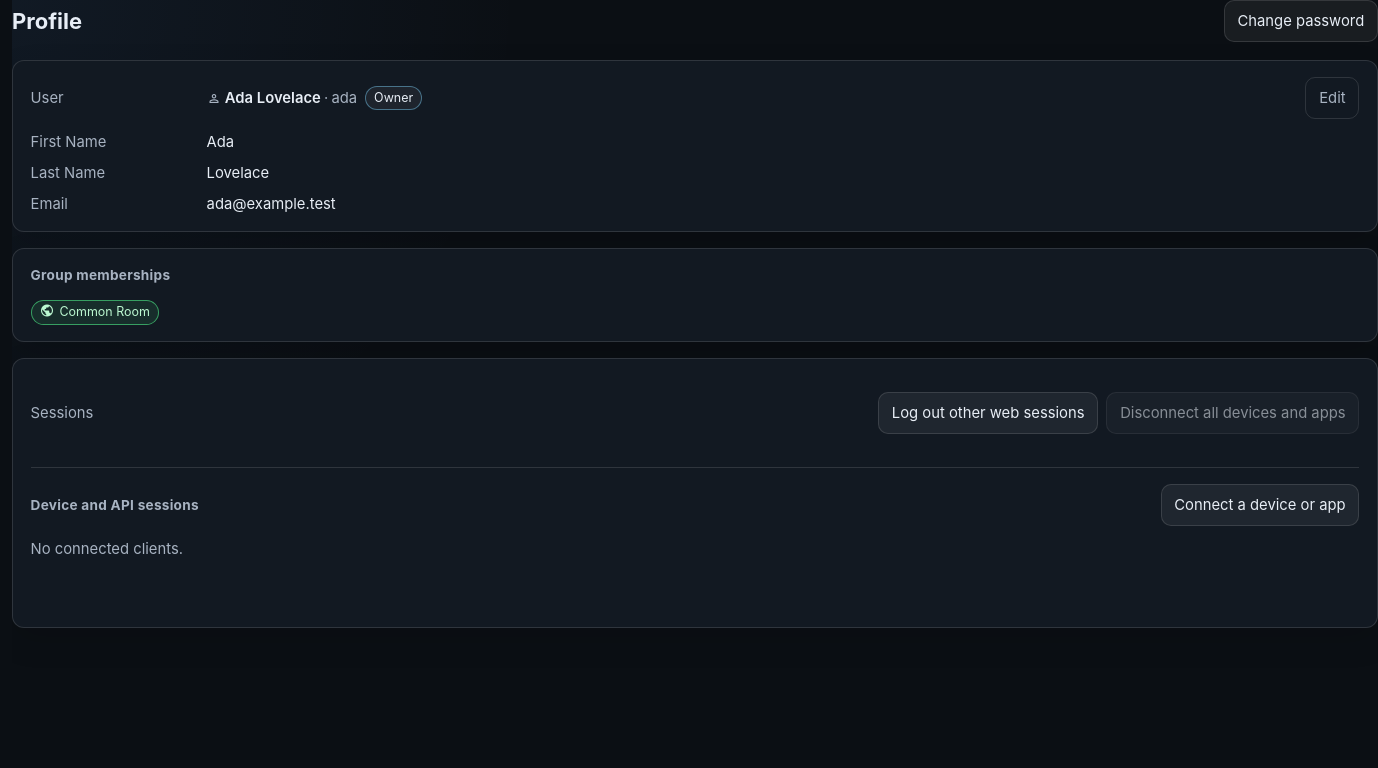
ProfileOrchestrator account sessions › keeps the current browser usable when web-session revocation fails
The image size is (1378, 768).
Click the button "Log out other web sessions".
click(988, 413)  # box [878, 392, 1098, 434]
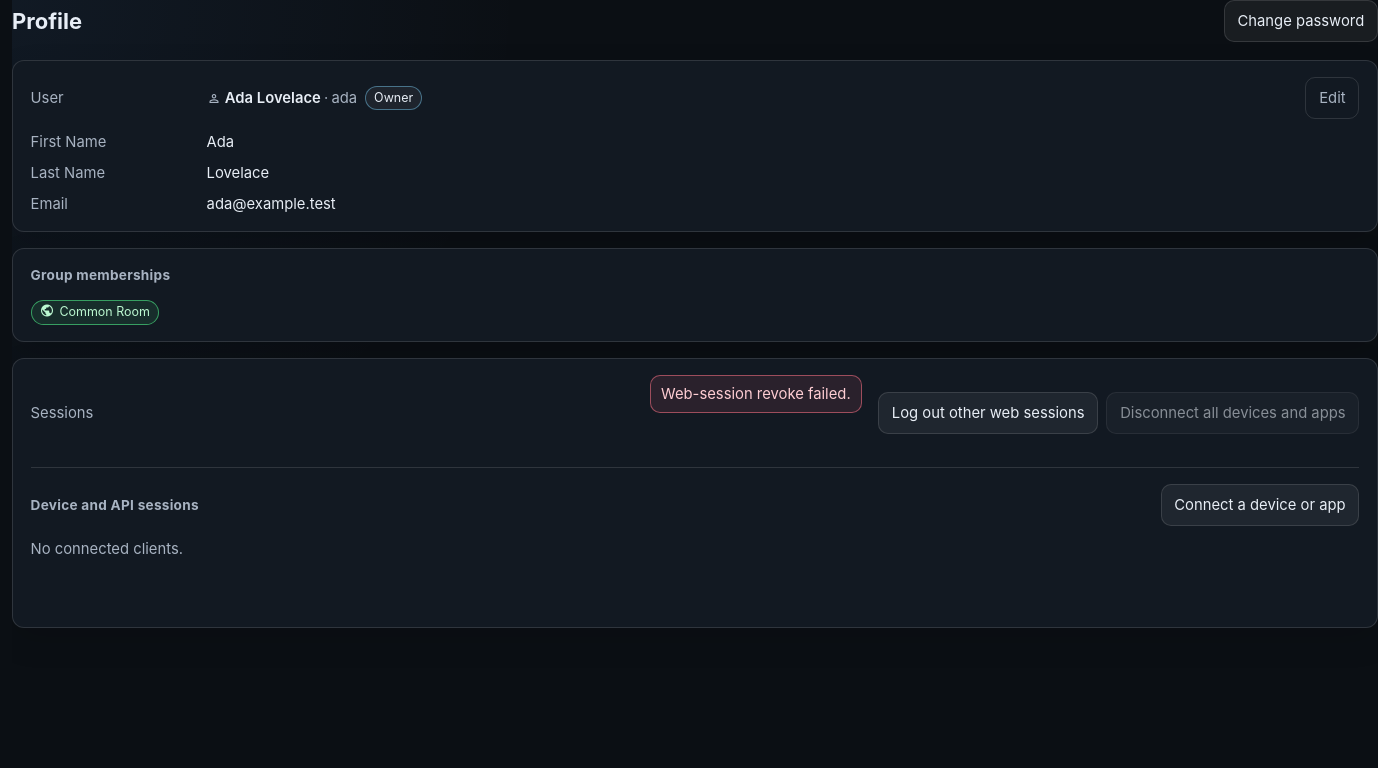
Expected: the link to "/profile/password" is shown, [1224, 0, 1377, 42]
Expected: the message "Web-session revoke failed." is shown, [650, 374, 862, 413]
